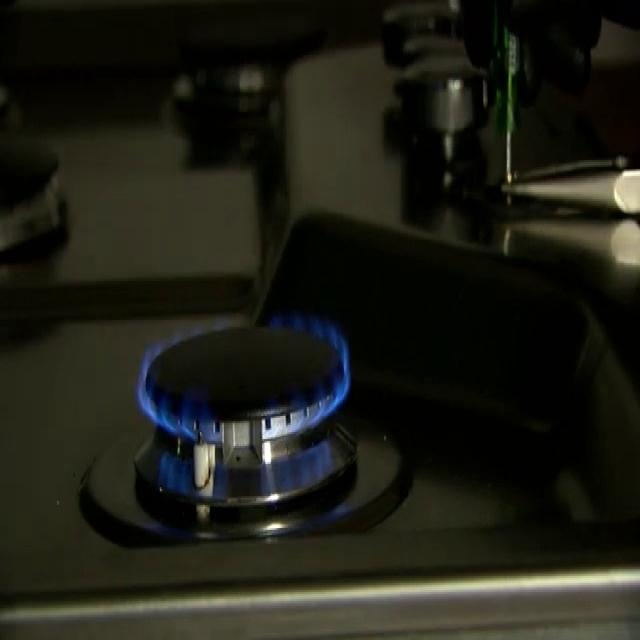fire: (110, 249, 390, 541)
